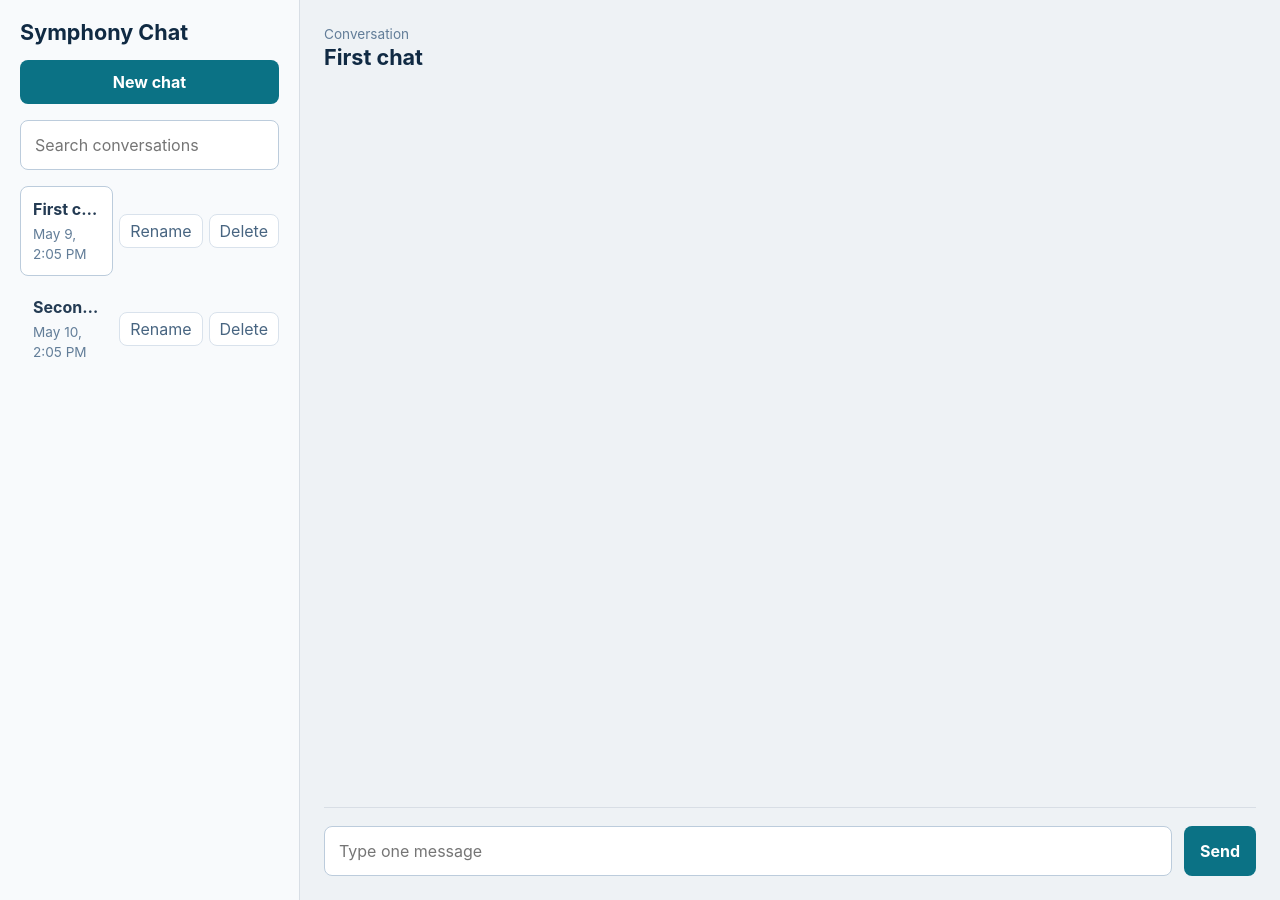
Test: App › loads a selected conversation from the sidebar
The width and height of the screenshot is (1280, 900).
Expected: the button with aria-label "Open First chat" is shown, [20,186,113,276]
Click the button with aria-label "Open Second chat": (67, 329) [20,284,113,374]
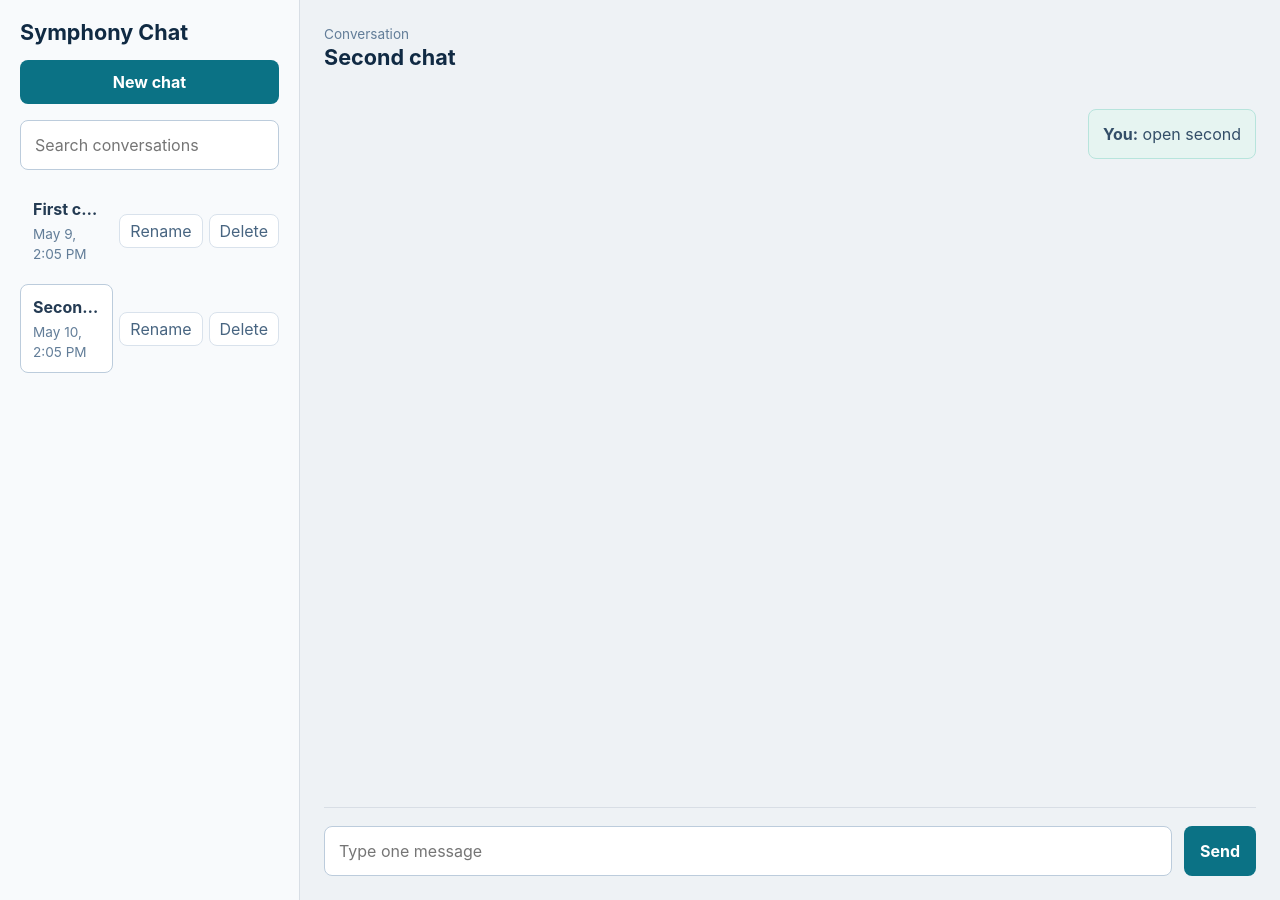
Expected: the text "open second" is shown, [1143,124,1241,144]
